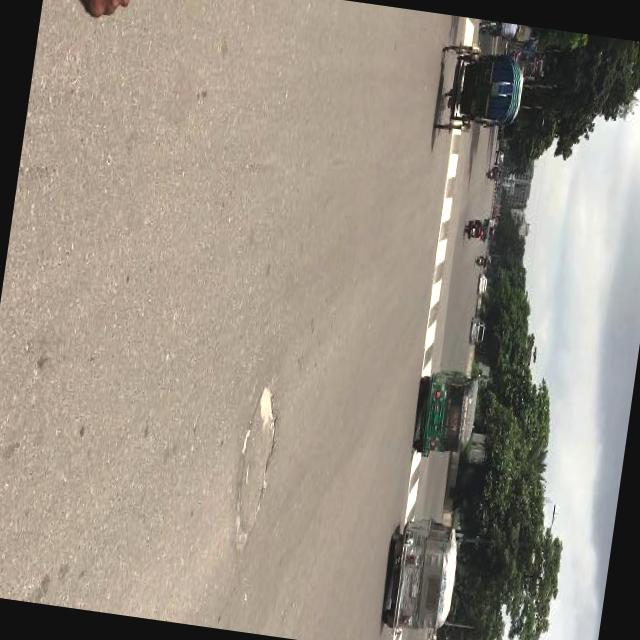bus: (492, 203, 503, 216)
car: (477, 272, 489, 296)
motorcycle: (378, 508, 463, 640), (431, 36, 528, 141), (409, 362, 482, 464), (464, 215, 496, 244), (474, 252, 492, 266), (486, 166, 501, 180)
truck: (468, 312, 488, 344), (494, 148, 506, 164)
